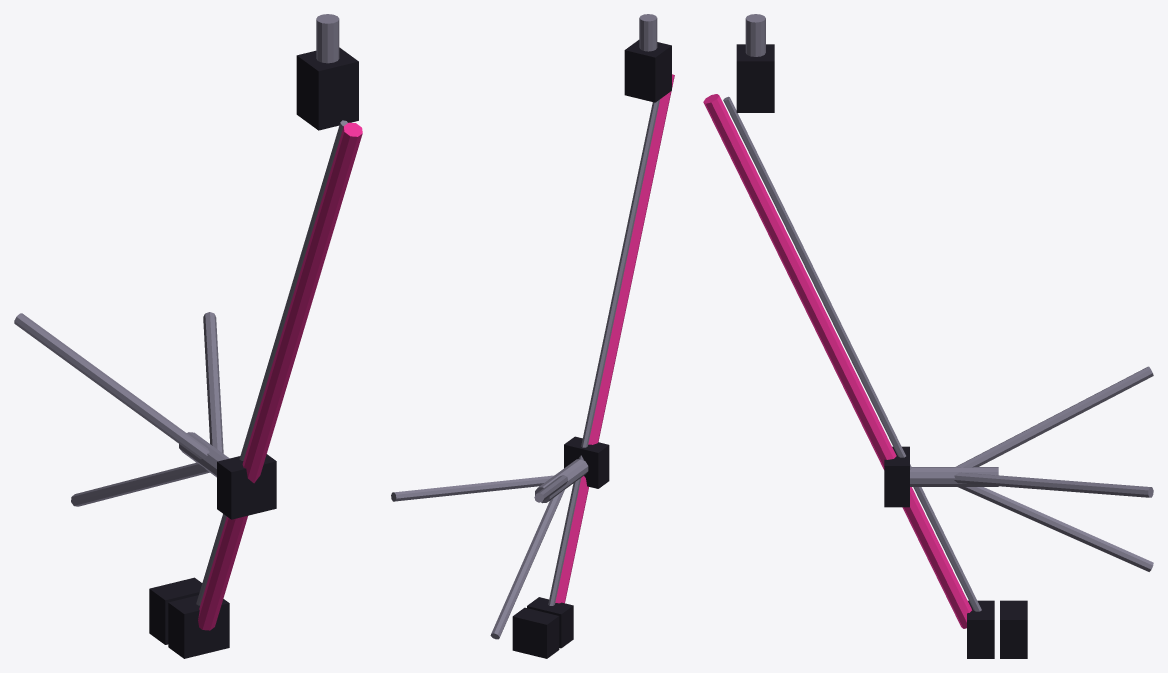
The model's file is grue.glb.
The picture shows the model from 3 angles, left to right: view 1: azimuth 30°, elevation 25°; view 2: azimuth 150°, elevation 25°; view 3: azimuth 270°, elevation 25°; orthographic projection. The views are drawn at different scales.
Parts seen in each view (by area): view 1: bras, tete, jambe1, rotule, contrepoids, bras2, jambe0, jambe2, contrepoids.001, objectif, colonne; view 2: bras, bras2, tete, contrepoids.001, jambe2, jambe0, rotule, contrepoids, colonne, objectif; view 3: bras, bras2, tete, jambe1, jambe0, jambe2, contrepoids.001, contrepoids, rotule, colonne, objectif.
Boxes of the visible parts, left/top/right/bottom form: bras: left=198, top=122, right=362, bottom=630; tete: left=296, top=47, right=358, bottom=130; jambe1: left=14, top=313, right=209, bottom=459; rotule: left=217, top=454, right=276, bottom=519; contrepoids: left=168, top=595, right=229, bottom=658; bras2: left=196, top=120, right=347, bottom=605; jambe0: left=203, top=312, right=223, bottom=453; jambe2: left=71, top=462, right=209, bottom=506; contrepoids.001: left=149, top=577, right=202, bottom=644; objectif: left=316, top=14, right=339, bottom=63; colonne: left=179, top=432, right=229, bottom=477; bras: left=555, top=74, right=674, bottom=603; bras2: left=548, top=99, right=659, bottom=605; tete: left=624, top=40, right=671, bottom=102; contrepoids.001: left=512, top=607, right=559, bottom=658; jambe2: left=490, top=489, right=564, bottom=639; jambe0: left=391, top=475, right=553, bottom=501; rotule: left=564, top=436, right=609, bottom=488; contrepoids: left=527, top=597, right=573, bottom=648; colonne: left=535, top=459, right=588, bottom=503; objectif: left=639, top=14, right=657, bottom=51; bras: left=703, top=94, right=971, bottom=628; bras2: left=723, top=96, right=981, bottom=611; tete: left=736, top=44, right=774, bottom=112; jambe1: left=956, top=366, right=1153, bottom=467; jambe0: left=954, top=472, right=1153, bottom=497; jambe2: left=958, top=487, right=1153, bottom=571; contrepoids.001: left=1000, top=600, right=1027, bottom=658; contrepoids: left=967, top=600, right=994, bottom=658; rotule: left=884, top=446, right=909, bottom=507; colonne: left=910, top=467, right=998, bottom=486; objectif: left=745, top=14, right=765, bottom=56.
Bounding box in the file's own units: 1.6 × 5.49 × 3.55.
